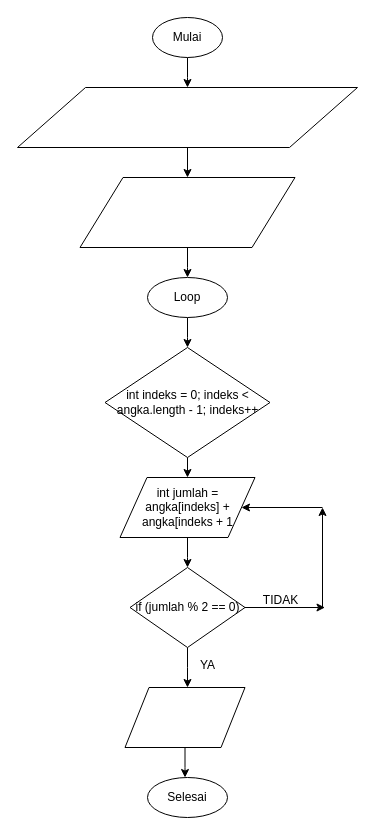
Image size: 375x835. Some labels were removed from this diagram. Each missing label, with the centre of its shape:
"int[] angka = (82,12,41,38,19,26,9,48,20,55,8,32,3)" goes at [187,117].
"Jumlah angka dengan angka sebelahnya dengan hasil genap" goes at [187,212].
"Print jumlah" goes at [184,717].
